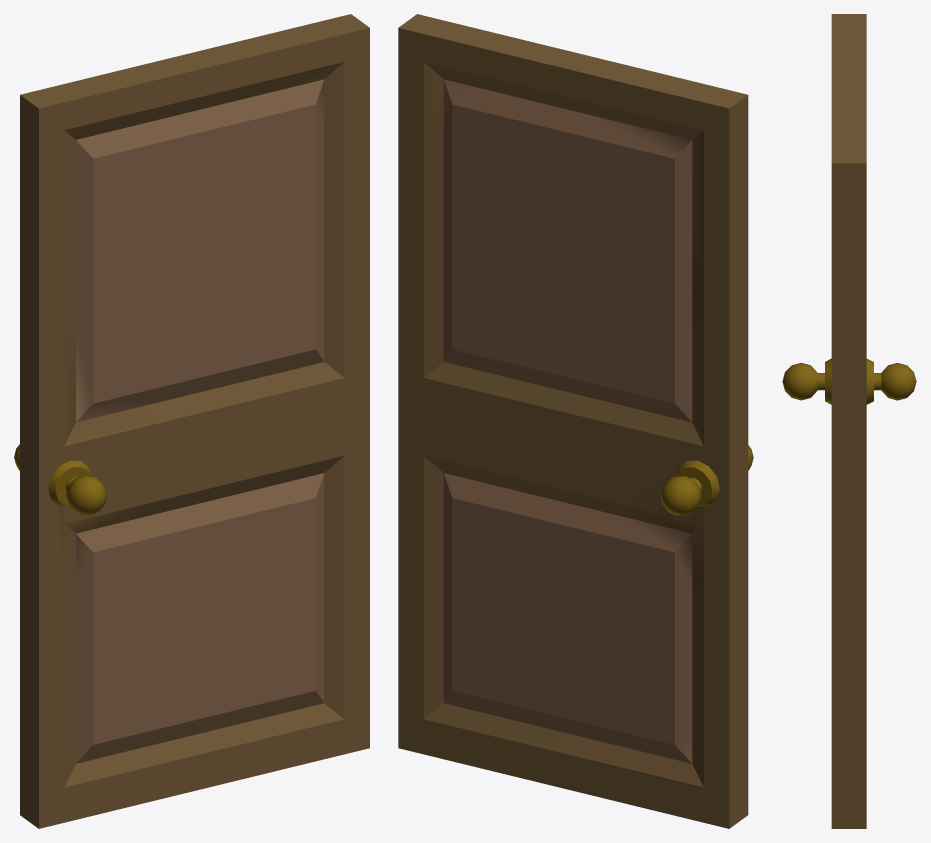
The model's file is ClassicDoor-bkn.FBX.
3 views of the same model, side by side, from view 1: azimuth 30°, elevation 25°; view 2: azimuth 150°, elevation 25°; view 3: azimuth 270°, elevation 25° (orthographic). The views are drawn at different scales.
Parts seen in each view (by area): view 1: ClassicDoor_Part_8, ClassicDoor_Part_10, ClassicDoor_Part_4, ClassicDoor_Part_6, ClassicDoor_Part_5, ClassicDoor_Part_1, ClassicDoor_Part_7, ClassicDoor_Part_9, ClassicDoor_Part_2, ClassicDoor_Part_3, Object004; view 2: ClassicDoor_Part_8, ClassicDoor_Part_10, ClassicDoor_Part_4, ClassicDoor_Part_6, ClassicDoor_Part_5, ClassicDoor_Part_9, ClassicDoor_Part_1, ClassicDoor_Part_7, ClassicDoor_Part_2, ClassicDoor_Part_3, Handle; view 3: ClassicDoor_Part_5, ClassicDoor_Part_3, ClassicDoor_Part_6, ClassicDoor_Part_8, ClassicDoor_Part_10, ClassicDoor_Part_1, Handle, Object004, ClassicDoor_Part_7.
Boxes of the visible parts, left/top/right/bottom form: ClassicDoor_Part_8: left=151, top=330, right=369, bottom=550; ClassicDoor_Part_10: left=20, top=58, right=184, bottom=343; ClassicDoor_Part_4: left=20, top=308, right=173, bottom=595; ClassicDoor_Part_6: left=144, top=177, right=369, bottom=333; ClassicDoor_Part_5: left=195, top=553, right=369, bottom=781; ClassicDoor_Part_1: left=125, top=478, right=369, bottom=661; ClassicDoor_Part_7: left=165, top=47, right=369, bottom=234; ClassicDoor_Part_9: left=52, top=598, right=232, bottom=825; ClassicDoor_Part_2: left=20, top=580, right=127, bottom=828; ClassicDoor_Part_3: left=215, top=14, right=369, bottom=155; Object004: left=48, top=460, right=106, bottom=515; ClassicDoor_Part_8: left=398, top=331, right=618, bottom=554; ClassicDoor_Part_10: left=581, top=59, right=748, bottom=345; ClassicDoor_Part_4: left=598, top=310, right=748, bottom=593; ClassicDoor_Part_6: left=398, top=157, right=625, bottom=335; ClassicDoor_Part_5: left=398, top=545, right=574, bottom=781; ClassicDoor_Part_9: left=535, top=592, right=717, bottom=825; ClassicDoor_Part_1: left=398, top=480, right=641, bottom=654; ClassicDoor_Part_7: left=402, top=46, right=602, bottom=212; ClassicDoor_Part_2: left=640, top=582, right=748, bottom=828; ClassicDoor_Part_3: left=398, top=14, right=548, bottom=158; Handle: left=660, top=460, right=719, bottom=515; ClassicDoor_Part_5: left=831, top=641, right=866, bottom=828; ClassicDoor_Part_3: left=831, top=102, right=866, bottom=284; ClassicDoor_Part_6: left=831, top=284, right=866, bottom=447; ClassicDoor_Part_8: left=831, top=445, right=866, bottom=581; ClassicDoor_Part_10: left=831, top=14, right=866, bottom=80; ClassicDoor_Part_1: left=831, top=579, right=866, bottom=647; Handle: left=866, top=359, right=916, bottom=404; Object004: left=782, top=358, right=831, bottom=404; ClassicDoor_Part_7: left=831, top=79, right=866, bottom=300.
Size of the model in its own units: 101 by 210 by 38.35.
